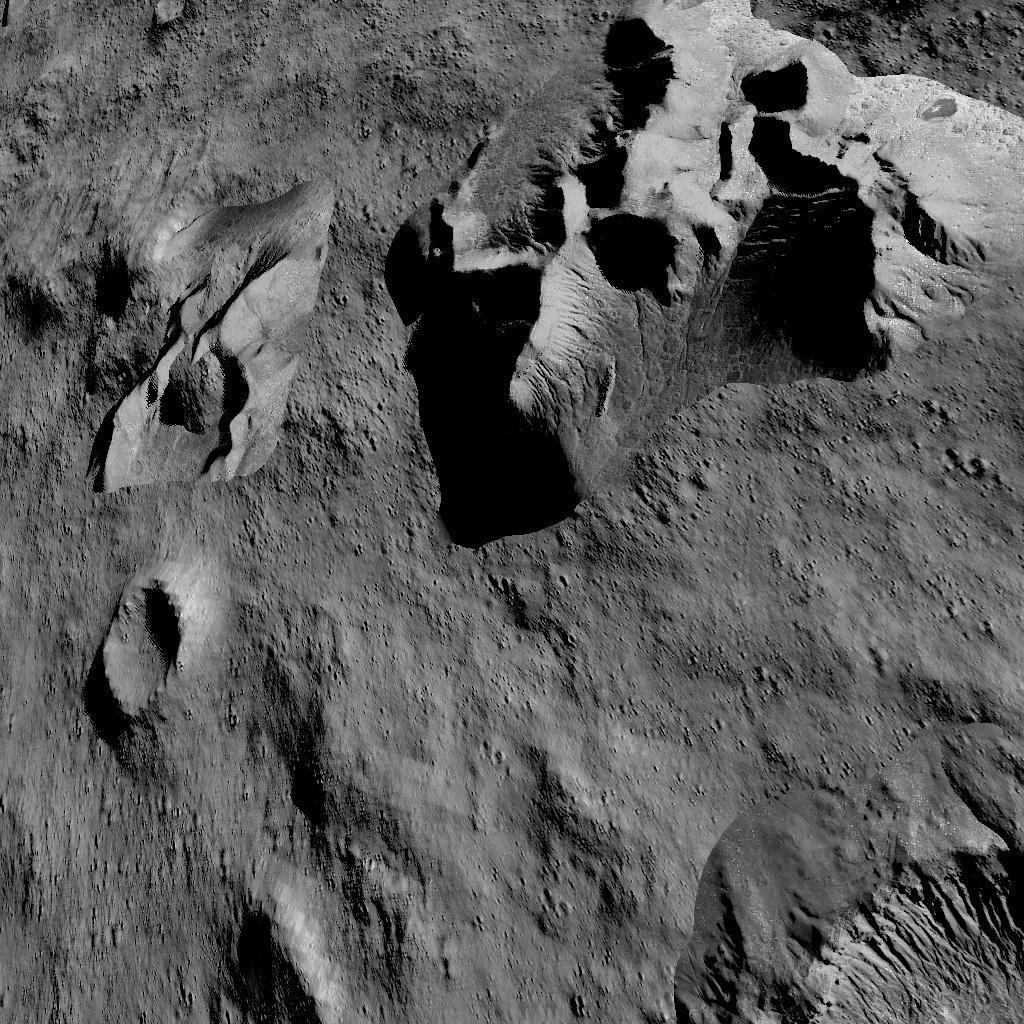Boulders: (357, 0, 1024, 552), (190, 922, 307, 1024)
Crater: (0, 224, 310, 504), (749, 846, 1024, 1024), (58, 558, 220, 770), (257, 753, 342, 852), (128, 0, 209, 53)
Plan surface: (362, 592, 724, 1022), (747, 568, 1024, 818), (7, 76, 337, 204), (12, 798, 162, 1024)
